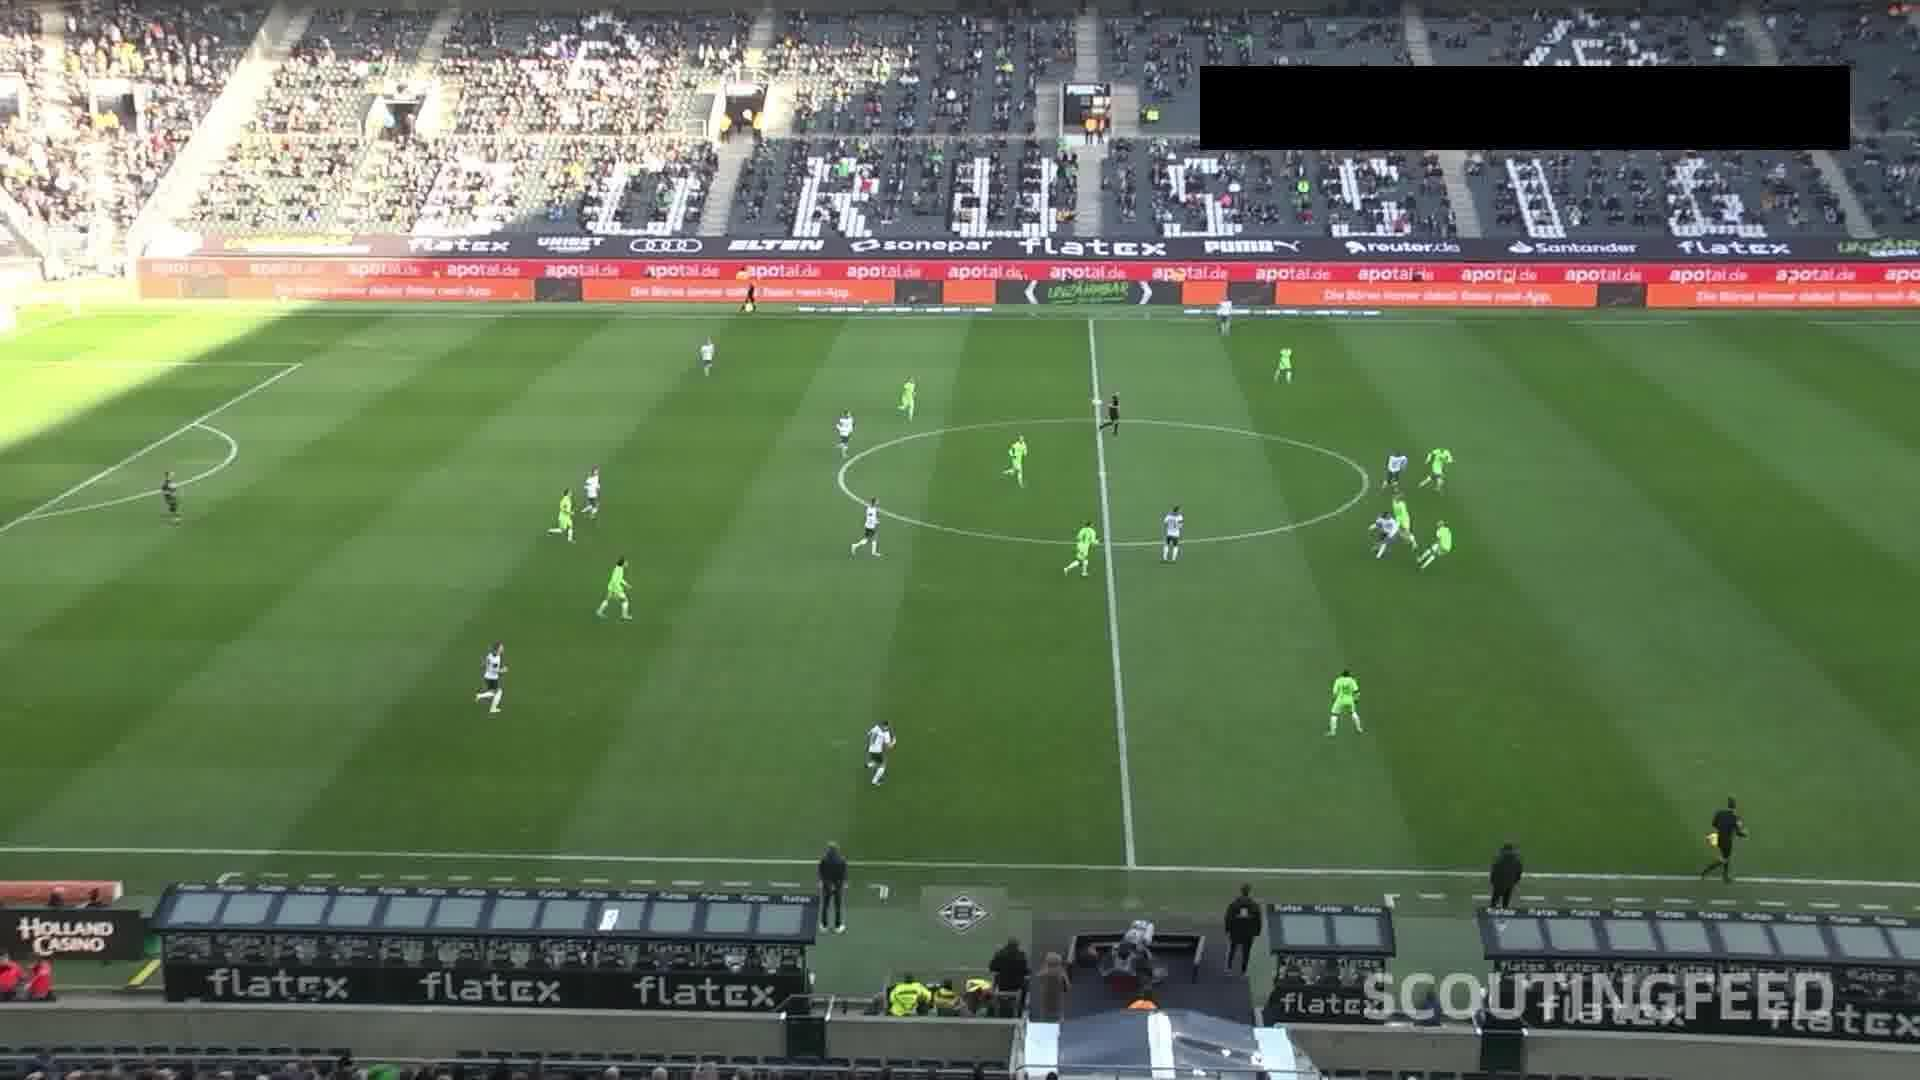football: (1092, 400, 1104, 409)
